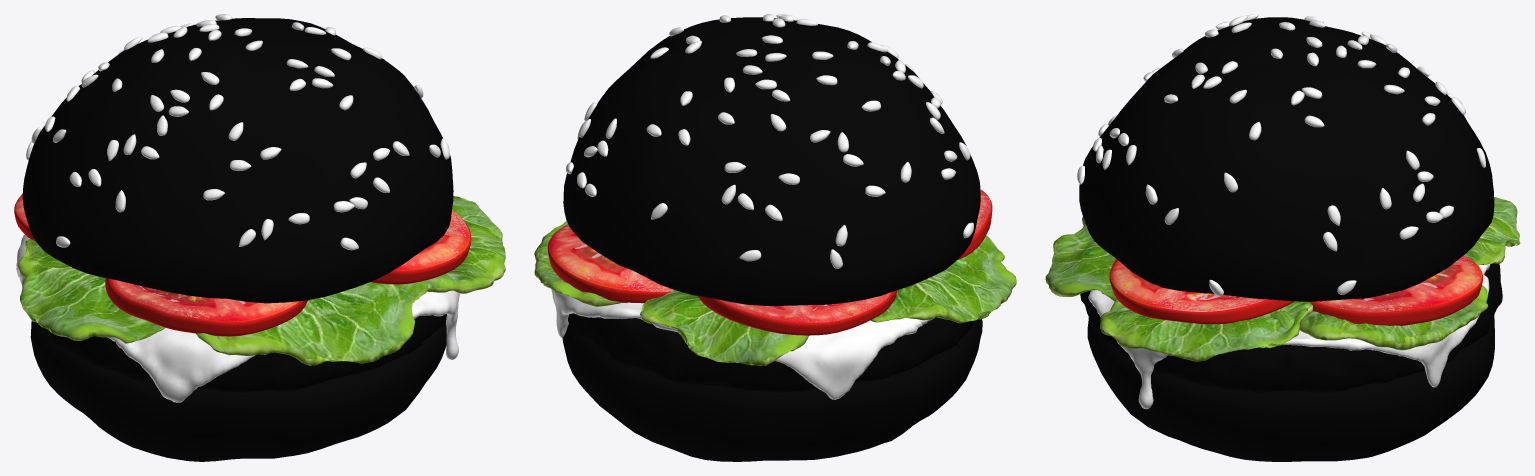
File: Hamburger.glb
3 views of the same model, side by side, from view 1: azimuth 30°, elevation 25°; view 2: azimuth 150°, elevation 25°; view 3: azimuth 270°, elevation 25° (orthographic).
Parts seen in each view (by area): view 1: HamburgerBunTop, HamburgerBunBot, Lettucec, Lettuceb, Patty, Cheese, Tomatoc, Lettuced, Tomatod; view 2: HamburgerBunTop, HamburgerBunBot, Patty, Cheese, Lettuceb, Lettucea, Tomatoa, Tomatob, Lettucee, Tomatoc; view 3: HamburgerBunTop, HamburgerBunBot, Patty, Lettuced, Tomatob, Tomatod, Cheese, Lettucee, Lettucec, Lettucea.
Part boxes in pixels (box(x1,y1,x2,y2)): HamburgerBunTop: box(22, 14, 453, 303); HamburgerBunBot: box(30, 321, 446, 461); Lettucec: box(195, 281, 427, 365); Lettuceb: box(17, 239, 165, 343); Patty: box(43, 314, 446, 392); Cheese: box(16, 234, 460, 402); Tomatoc: box(105, 278, 307, 336); Lettuced: box(422, 196, 505, 293); Tomatod: box(370, 210, 471, 284); HamburgerBunTop: box(563, 14, 980, 305); HamburgerBunBot: box(562, 319, 982, 461); Patty: box(568, 313, 975, 392); Cheese: box(551, 289, 933, 399); Lettuceb: box(870, 235, 1016, 323); Lettucea: box(640, 289, 809, 366); Tomatoa: box(696, 290, 896, 335); Tomatob: box(547, 224, 673, 303); Lettucee: box(534, 221, 627, 306); Tomatoc: box(957, 189, 992, 259); HamburgerBunTop: box(1077, 14, 1494, 301); HamburgerBunBot: box(1087, 315, 1494, 461); Patty: box(1080, 264, 1502, 392); Lettuced: box(1100, 299, 1312, 361); Tomatob: box(1309, 255, 1482, 325); Tomatod: box(1109, 259, 1294, 324); Cheese: box(1088, 264, 1490, 409); Lettucee: box(1299, 285, 1488, 350); Lettucec: box(1045, 217, 1116, 301); Lettucea: box(1464, 197, 1520, 265).
Size of the model in its own units: 0.1275 by 0.1063 by 0.1244.
Materials: 7 (4 with a texture image).
